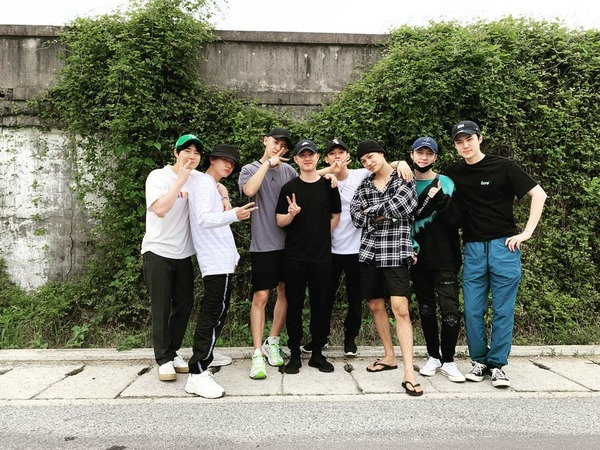people: (445, 122, 546, 384), (351, 141, 418, 394), (140, 134, 205, 376), (240, 130, 299, 378), (403, 137, 460, 383), (190, 146, 245, 397), (288, 141, 337, 371), (319, 142, 372, 354)
